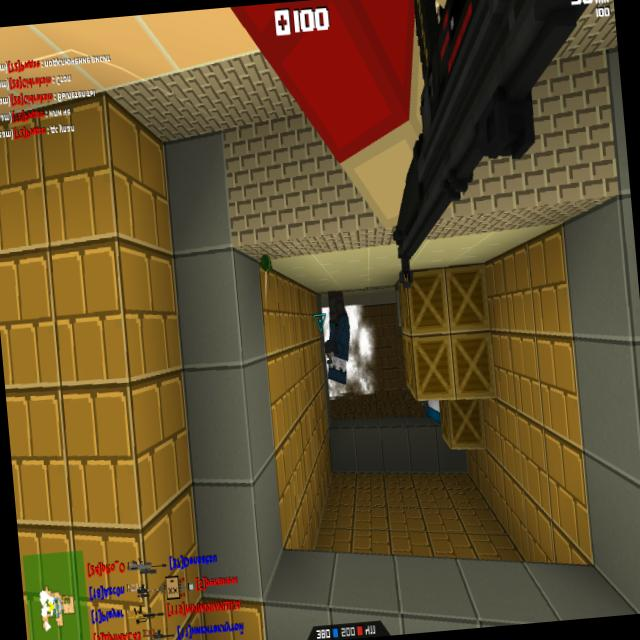enemy: (320, 289, 354, 386), (424, 400, 441, 426)
